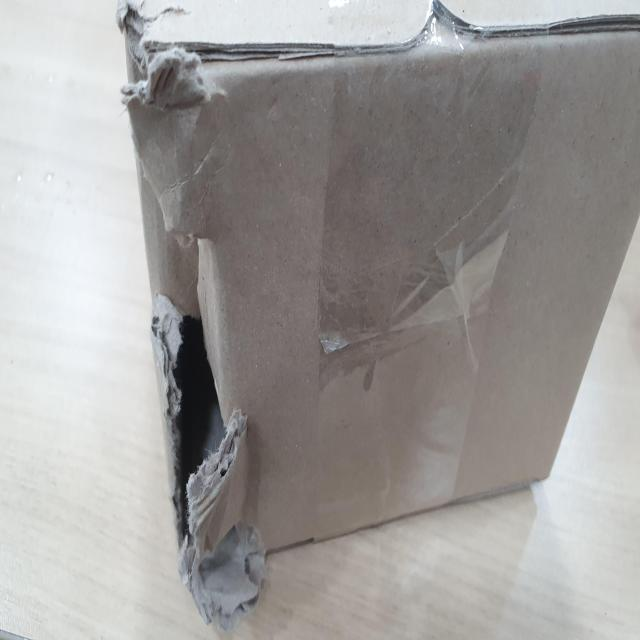damaged: (160, 294, 263, 571)
